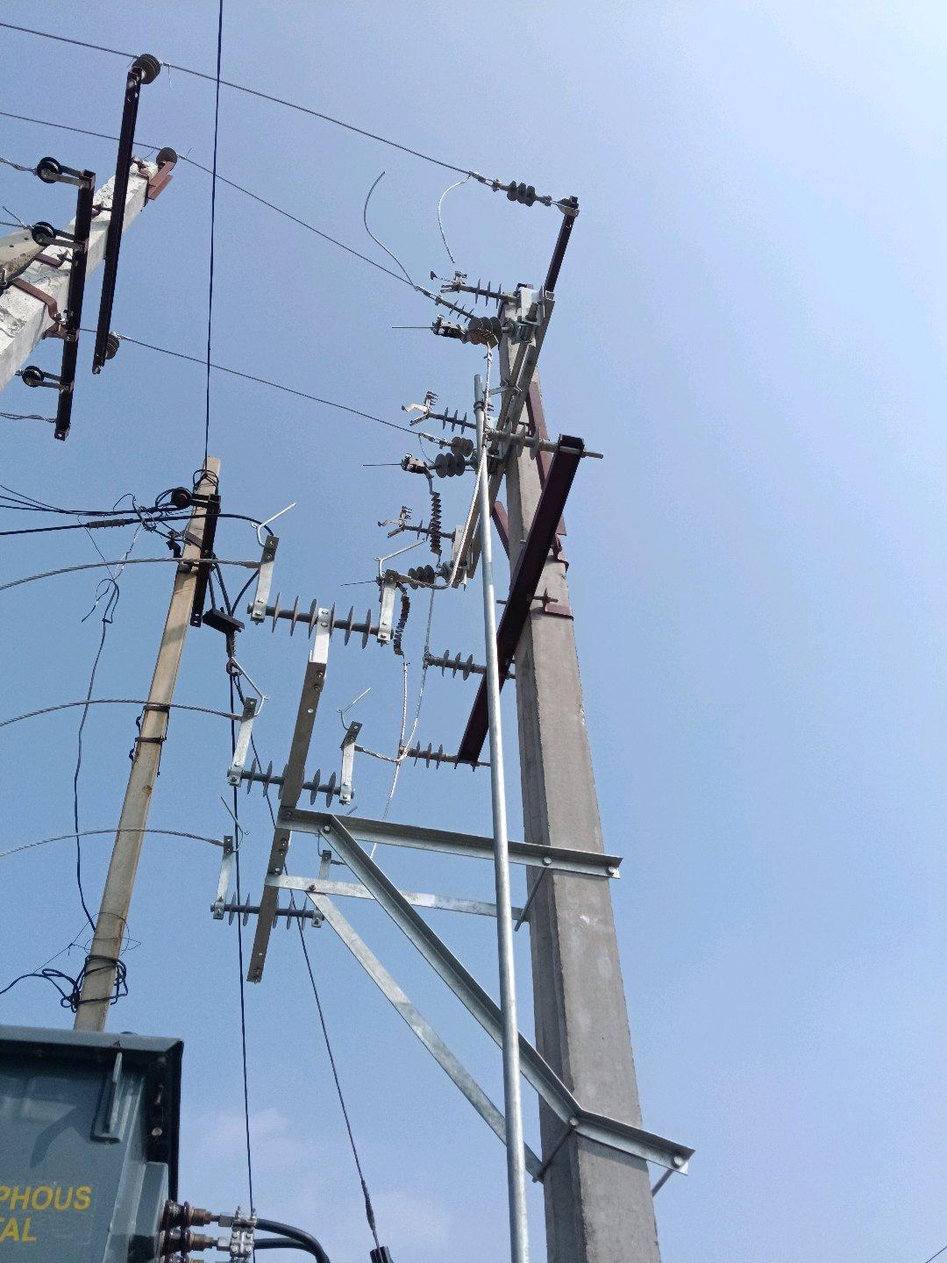{"0" "insulator", "1" "pole", "2" "crossarm", "3" "conductor", "4" "street_: (431, 170, 602, 853), (74, 456, 220, 1031), (0, 55, 177, 439), (530, 869, 640, 1127), (541, 1113, 659, 1262), (458, 691, 487, 766), (452, 503, 474, 584), (219, 617, 238, 634), (425, 160, 452, 170), (443, 331, 457, 339), (453, 168, 458, 175), (454, 306, 458, 310), (660, 1166, 665, 1168), (218, 613, 221, 616), (566, 445, 569, 448), (573, 870, 575, 874), (215, 617, 217, 620), (148, 559, 151, 561), (566, 485, 568, 488), (211, 613, 213, 615)
